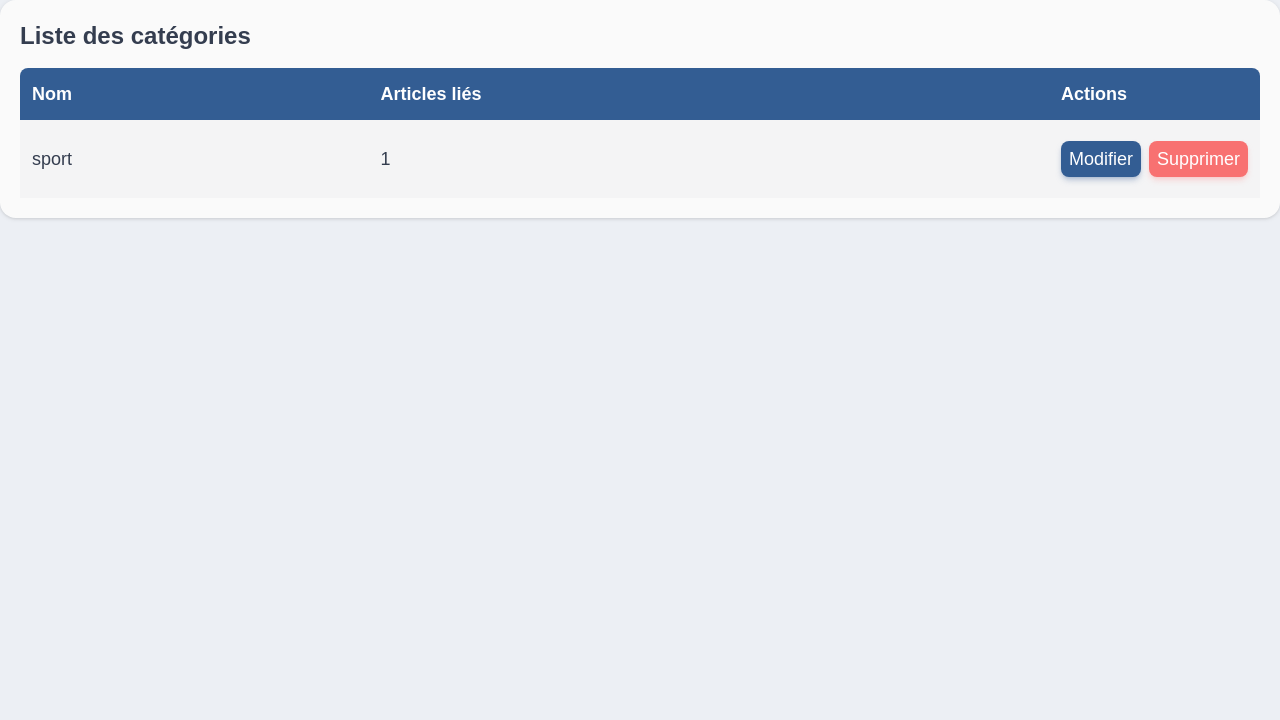
Scenario: CategoriesViewTest › should render the categories view and open update
Expected: the text "sport" is shown, [20, 120, 368, 198]
Click the button "Modifier": click(1101, 159) [1061, 141, 1141, 177]
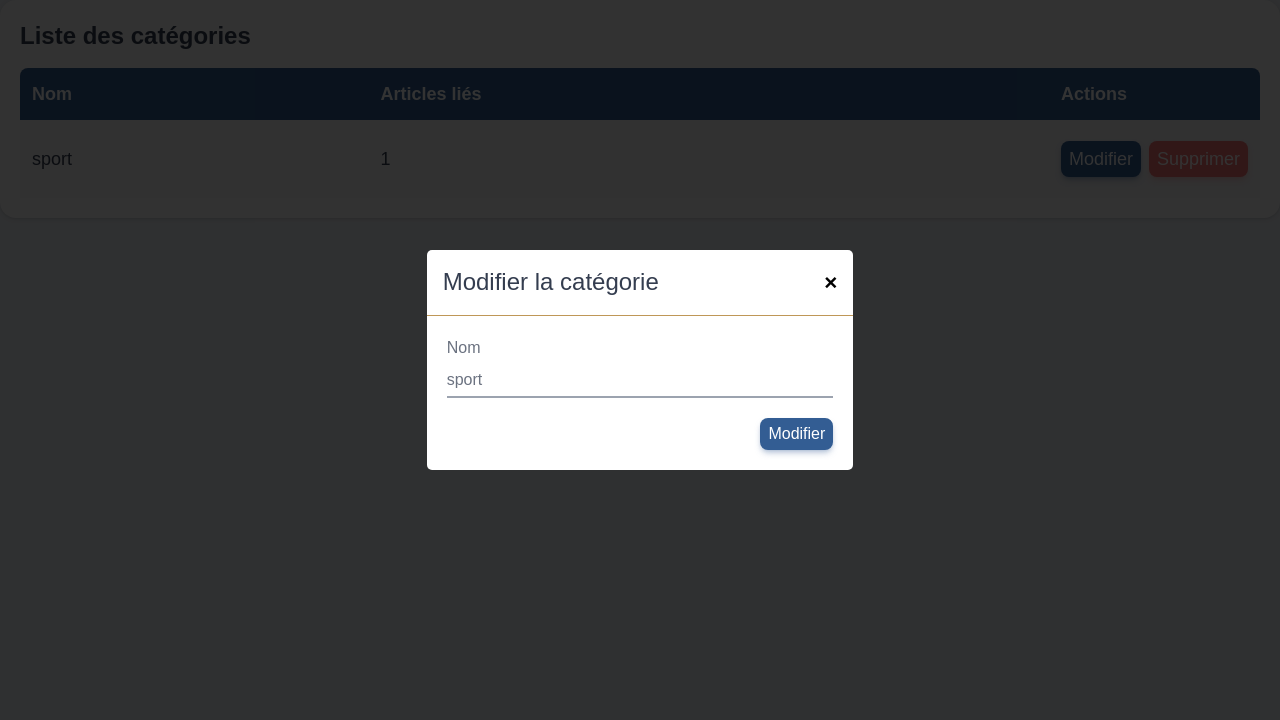
Expected: the heading "Modifier la catégorie" is shown, [443, 266, 659, 298]
